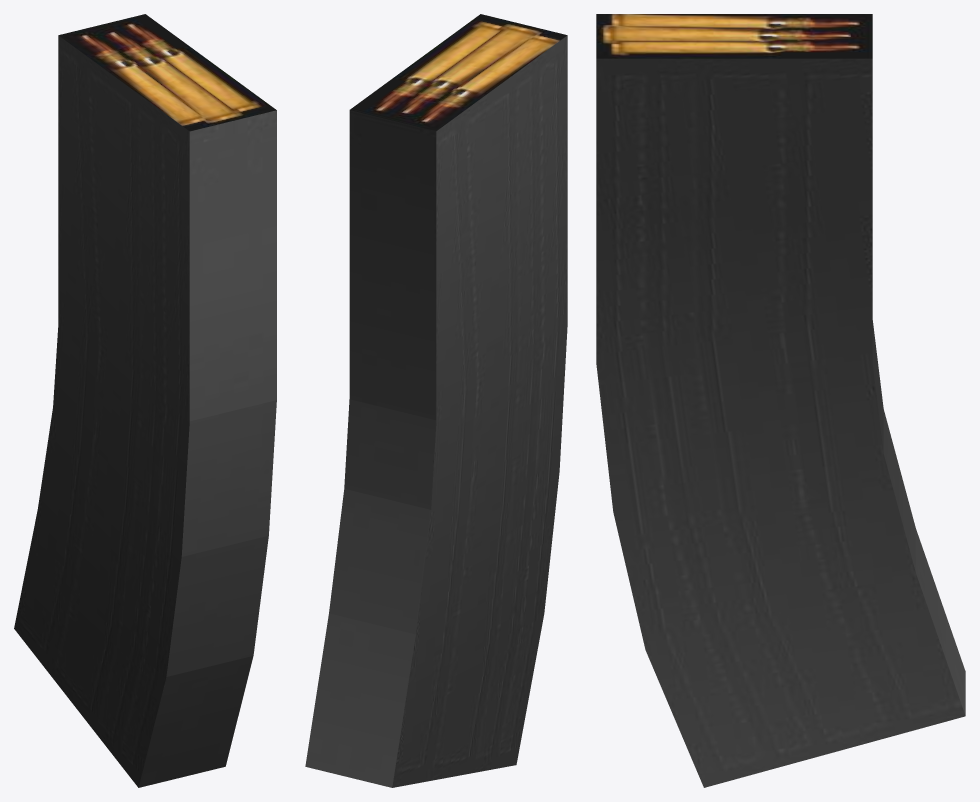
Rendered from i_mag_rifle.glb.
The picture shows the model from 3 angles, left to right: view 1: azimuth 30°, elevation 25°; view 2: azimuth 150°, elevation 25°; view 3: azimuth 270°, elevation 25°; orthographic projection. The views are drawn at different scales.
Parts seen in each view (by area): view 1: i_mag_rifle; view 2: i_mag_rifle; view 3: i_mag_rifle.
Part boxes in pixels (left/top/right/bottom): i_mag_rifle: left=14, top=14, right=276, bottom=787; i_mag_rifle: left=305, top=14, right=567, bottom=787; i_mag_rifle: left=596, top=14, right=965, bottom=787.
Bounding box in the file's own units: 0.0258 × 0.1963 × 0.0901.
1 material, 1 textured.
